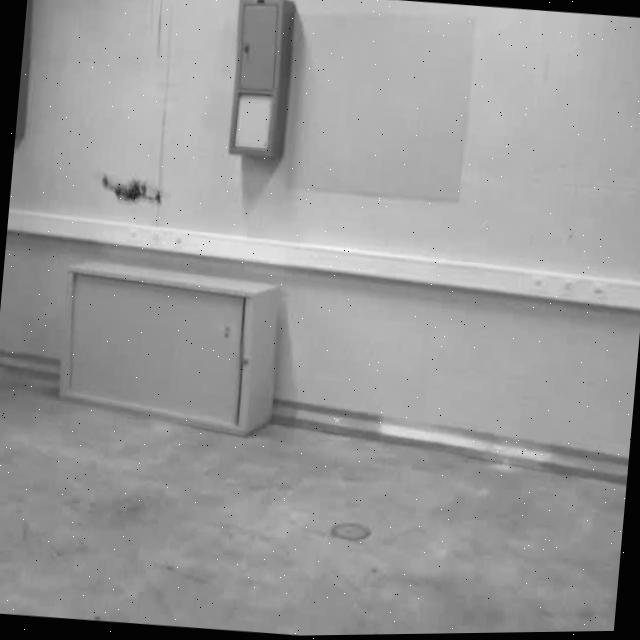drone: (94, 165, 166, 211)
